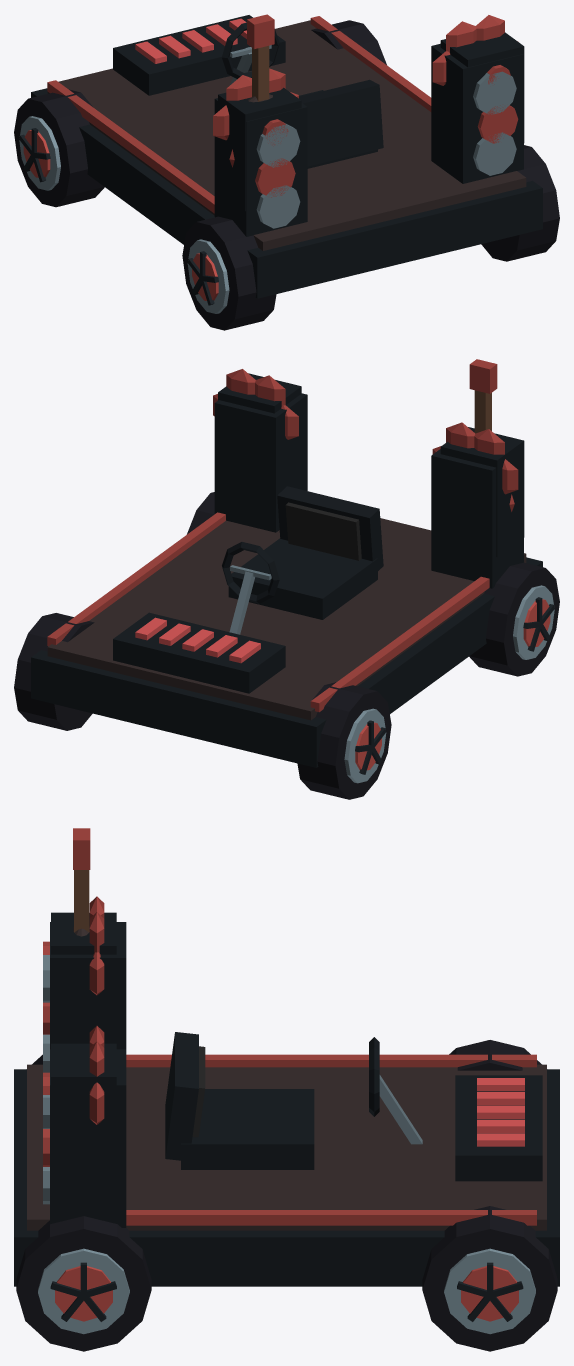
The model's file is kart.glb.
3 views of the same model, one above another, from view 1: azimuth 30°, elevation 25°; view 2: azimuth 150°, elevation 25°; view 3: azimuth 270°, elevation 25° (orthographic). The views are drawn at different scales.
Parts seen in each view (by area): view 1: identity-stage-stage-platform-and-pa-towers, identity-stage-motif-speakers, wheel-front-left, wheel-rear-left, identity-stage-driver-cockpit, wheel-rear-right, identity-stage-motif-flowers, identity-stage-motif-guitar, wheel-front-right; view 2: identity-stage-stage-platform-and-pa-towers, identity-stage-driver-cockpit, wheel-front-left, wheel-rear-left, identity-stage-motif-speakers, wheel-front-right, identity-stage-motif-flowers, identity-stage-motif-guitar; view 3: identity-stage-stage-platform-and-pa-towers, identity-stage-driver-cockpit, wheel-front-right, wheel-rear-right, identity-stage-motif-speakers, identity-stage-motif-flowers, identity-stage-motif-guitar, wheel-front-left.
Part boxes in pixels (x1,y1,x2,y2): identity-stage-stage-platform-and-pa-towers: [31, 15, 542, 298]; identity-stage-motif-speakers: [218, 32, 524, 211]; wheel-front-left: [14, 89, 104, 207]; wheel-rear-left: [182, 216, 276, 330]; identity-stage-driver-cockpit: [222, 22, 383, 168]; wheel-rear-right: [481, 145, 559, 261]; identity-stage-motif-flowers: [213, 15, 518, 140]; identity-stage-motif-guitar: [229, 14, 274, 167]; wheel-front-right: [311, 20, 386, 64]; identity-stage-stage-platform-and-pa-towers: [31, 393, 542, 767]; identity-stage-driver-cockpit: [222, 486, 383, 634]; wheel-front-left: [297, 682, 391, 799]; wheel-rear-left: [469, 562, 559, 676]; identity-stage-motif-speakers: [218, 373, 524, 556]; wheel-front-right: [14, 613, 94, 730]; identity-stage-motif-flowers: [213, 369, 518, 494]; identity-stage-motif-guitar: [469, 359, 514, 511]; identity-stage-stage-platform-and-pa-towers: [14, 922, 559, 1286]; identity-stage-driver-cockpit: [165, 1032, 422, 1169]; wheel-front-right: [422, 1206, 557, 1351]; wheel-rear-right: [16, 1216, 151, 1351]; identity-stage-motif-speakers: [43, 912, 116, 1193]; identity-stage-motif-flowers: [89, 896, 104, 1124]; identity-stage-motif-guitar: [73, 828, 90, 936]; wheel-front-left: [449, 1040, 541, 1070].
Bounding box in the file's own units: 2.16 × 1.8 × 2.5.
